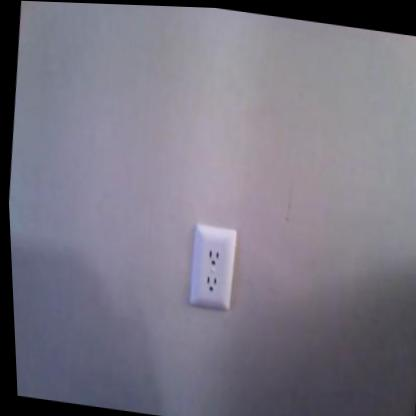OUTLET: (185, 222, 241, 311)
